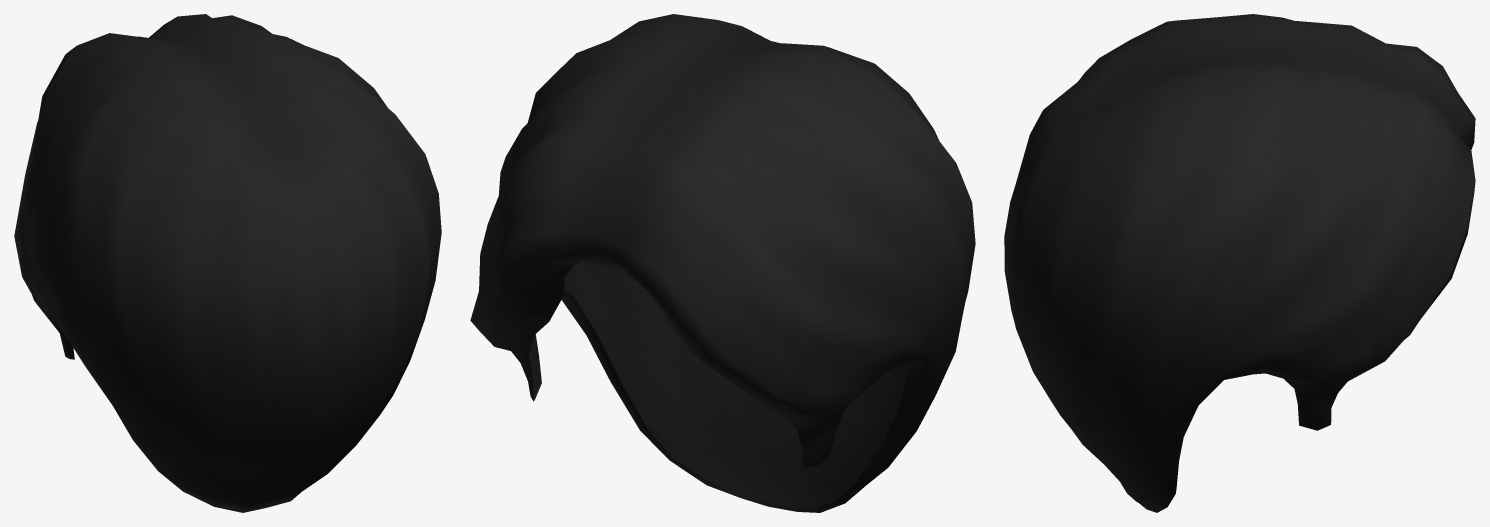
File: Hair_Male_003_textured_black.glb
The picture shows the model from 3 angles, left to right: view 1: azimuth 30°, elevation 25°; view 2: azimuth 150°, elevation 25°; view 3: azimuth 270°, elevation 25°; orthographic projection. The views are drawn at different scales.
Parts seen in each view (by area): view 1: Hair_Male_003; view 2: Hair_Male_003; view 3: Hair_Male_003.
Boxes of the visible parts, bbox=[...] form: Hair_Male_003: bbox=[14, 14, 441, 512]; Hair_Male_003: bbox=[470, 14, 975, 512]; Hair_Male_003: bbox=[1004, 14, 1475, 512].
Bounding box in the file's own units: 0.2155 × 0.2438 × 0.2307.
Materials: 1 (1 with a texture image).
